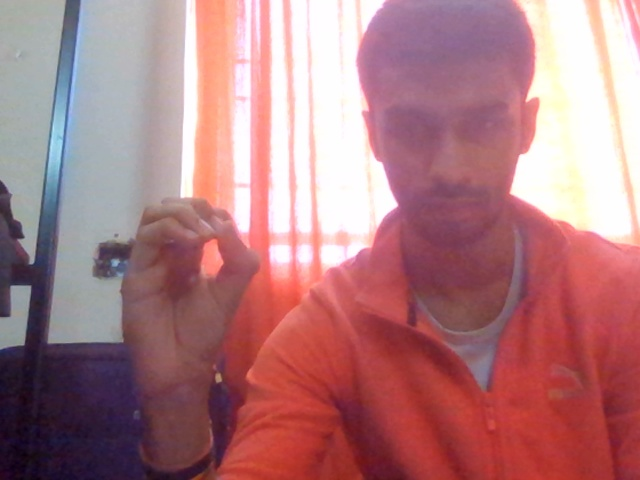O: (98, 176, 274, 418)
